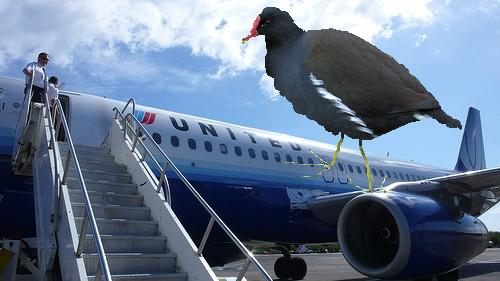tampered: (242, 8, 462, 193)
